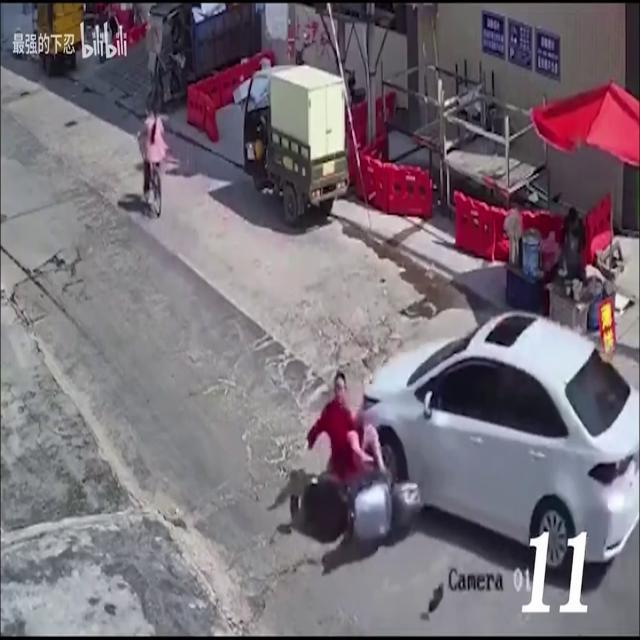multiple_accident: (266, 247, 634, 590)
normal: (150, 5, 480, 241)
